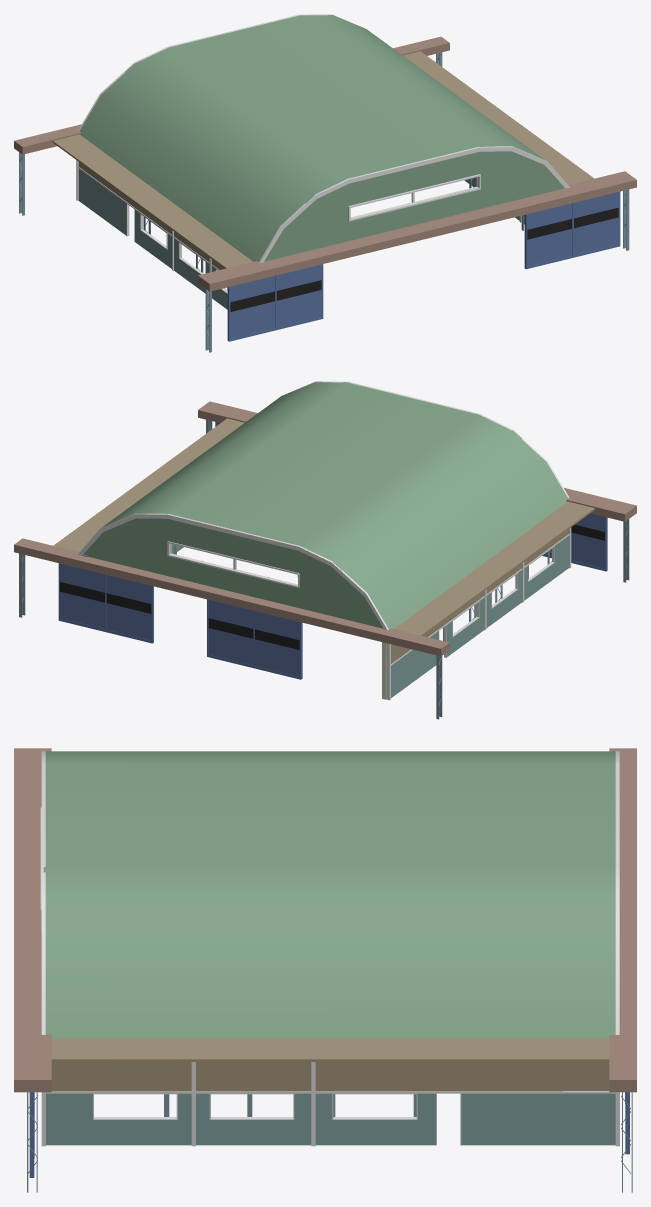
Rendered from Warehouse_middle.fbx.
The picture shows the model from 3 angles, top to bottom: view 1: azimuth 30°, elevation 25°; view 2: azimuth 150°, elevation 25°; view 3: azimuth 270°, elevation 25°; orthographic projection. The views are drawn at different scales.
Visible parts, largest first — view 1: roof3; view 2: roof3; view 3: roof3.
Part boxes in pixels (x1,y1,x2,y2): roof3: (14, 14, 636, 352); roof3: (14, 381, 636, 719); roof3: (14, 748, 636, 1192).
Size of the model in its own units: 2719 by 818 by 2159.
